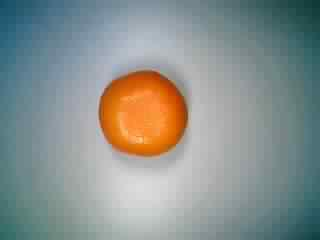orange: (94, 62, 190, 158)
